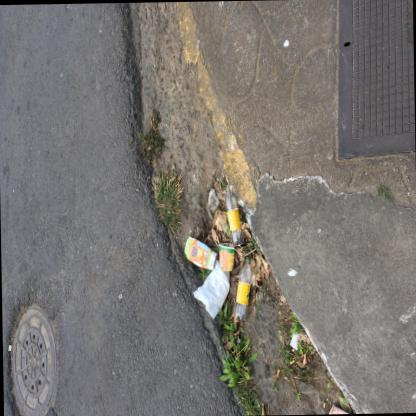Paper: (184, 235, 217, 269), (218, 241, 234, 270), (276, 368, 280, 376), (289, 358, 295, 363), (289, 347, 294, 351)
Plastic: (193, 258, 230, 317), (224, 183, 243, 245), (234, 255, 252, 320), (208, 187, 220, 211)
Waste: (289, 332, 298, 350)
